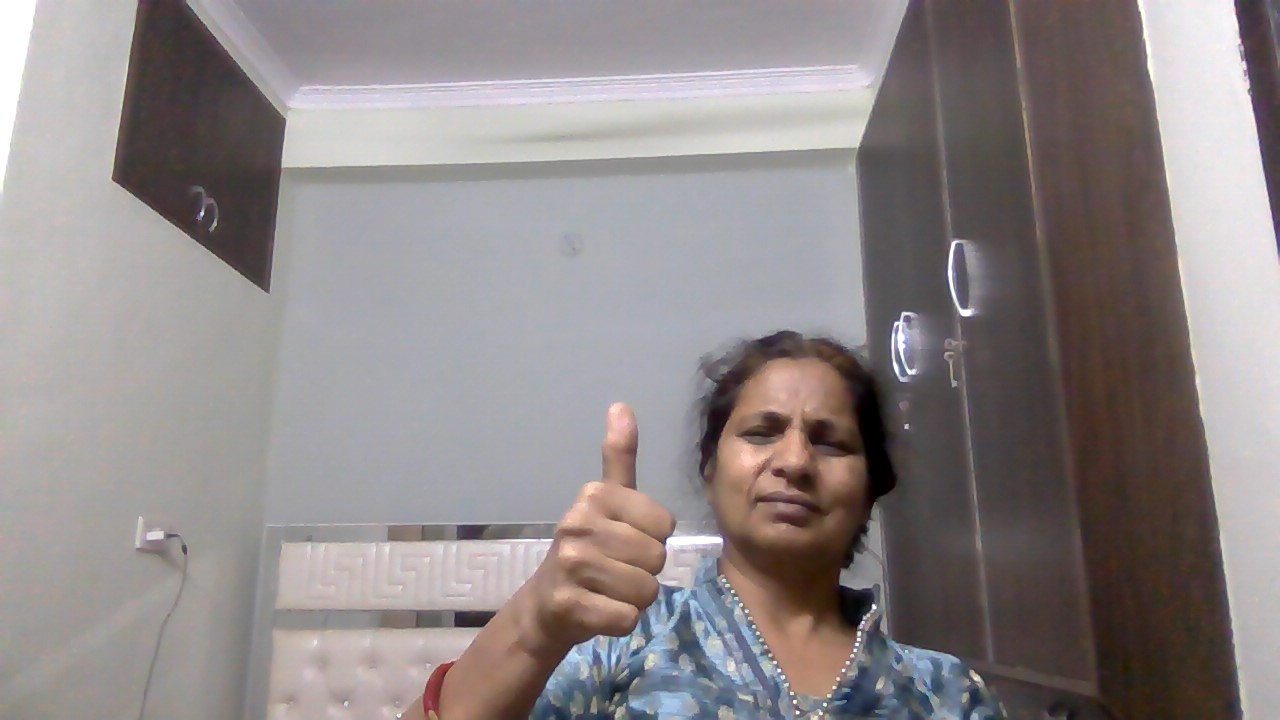Save: (520, 399, 683, 650)
